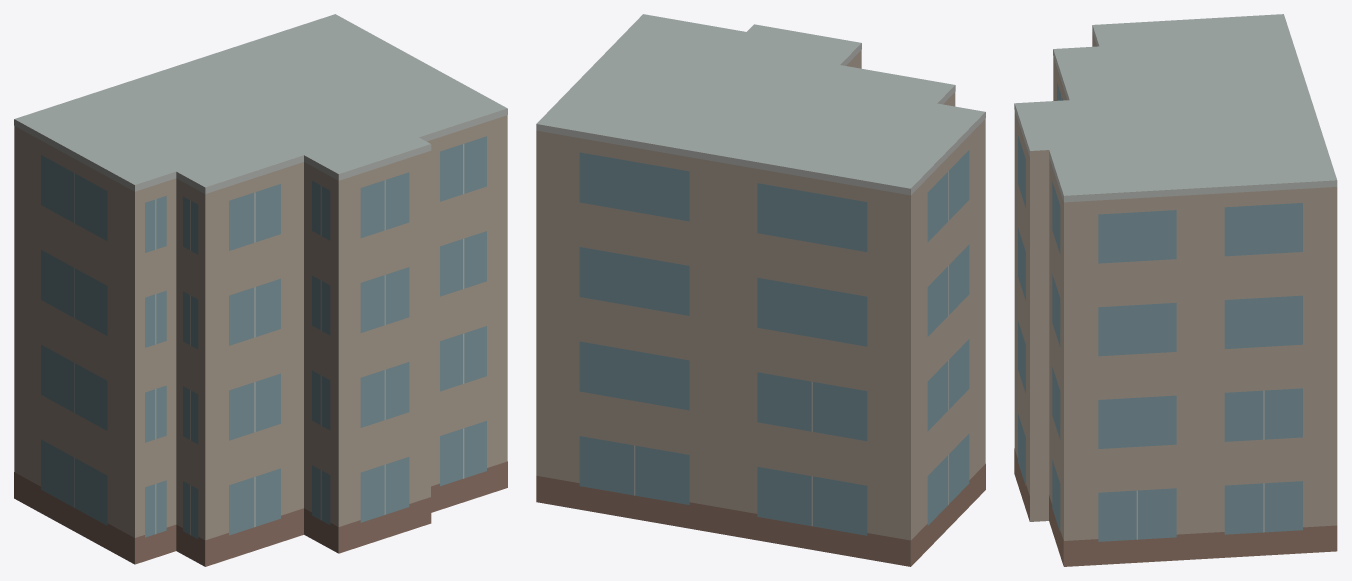
Rendered from survey-upis-32595570.glb.
The picture shows the model from 3 angles, left to right: view 1: azimuth 30°, elevation 25°; view 2: azimuth 150°, elevation 25°; view 3: azimuth 270°, elevation 25°; orthographic projection. The views are drawn at different scales.
Parts seen in each view (by area): view 1: survey-upis-32595570.tmp; view 2: survey-upis-32595570.tmp; view 3: survey-upis-32595570.tmp.
Part boxes in pixels (x1=…): survey-upis-32595570.tmp: x1=14, y1=14, x2=507, y2=566; survey-upis-32595570.tmp: x1=536, y1=14, x2=985, y2=566; survey-upis-32595570.tmp: x1=1014, y1=14, x2=1337, y2=566.
Bounding box in the file's own units: 14.62 × 13.9 × 10.97.
